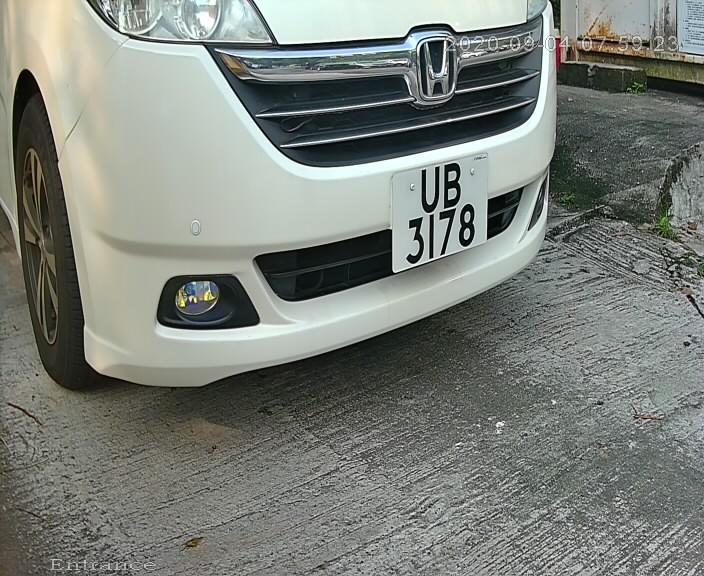License Plate: (387, 142, 494, 281)
